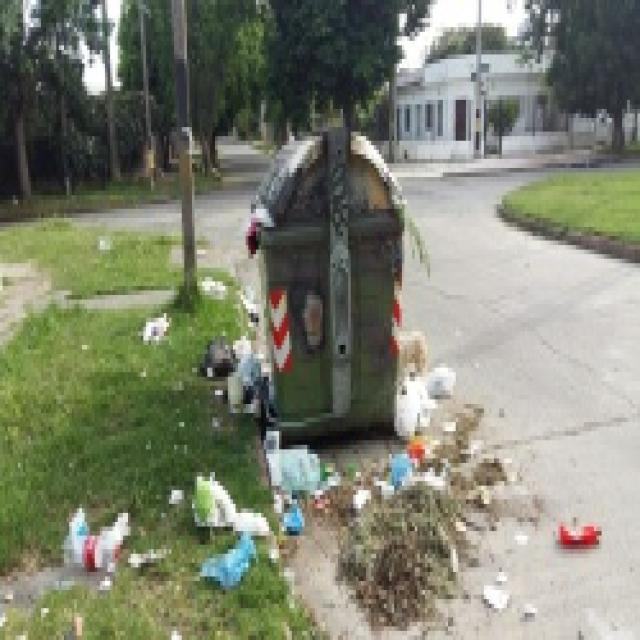garbage: (182, 463, 266, 590), (384, 322, 445, 436), (261, 422, 315, 536), (202, 318, 261, 418), (61, 499, 130, 572), (553, 499, 604, 554)
